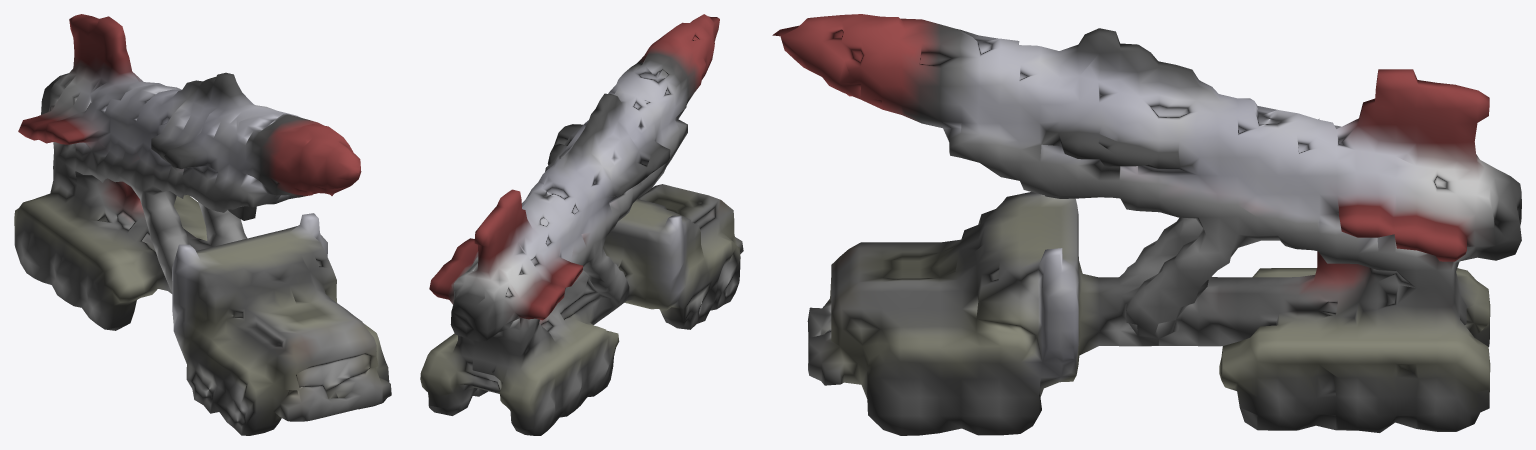
File: v3_rocket_launcher.glb
3 views of the same model, side by side, from view 1: azimuth 30°, elevation 25°; view 2: azimuth 150°, elevation 25°; view 3: azimuth 270°, elevation 25° (orthographic). The views are drawn at different scales.
Visible parts, largest first — view 1: v3_rocket_launcher; view 2: v3_rocket_launcher; view 3: v3_rocket_launcher.
Part boxes in pixels (<box>): v3_rocket_launcher: <box>14,14,391,435</box>; v3_rocket_launcher: <box>420,14,743,435</box>; v3_rocket_launcher: <box>772,14,1521,435</box>.
Bounding box in the file's own units: 1.53 × 2.93 × 5.26.
